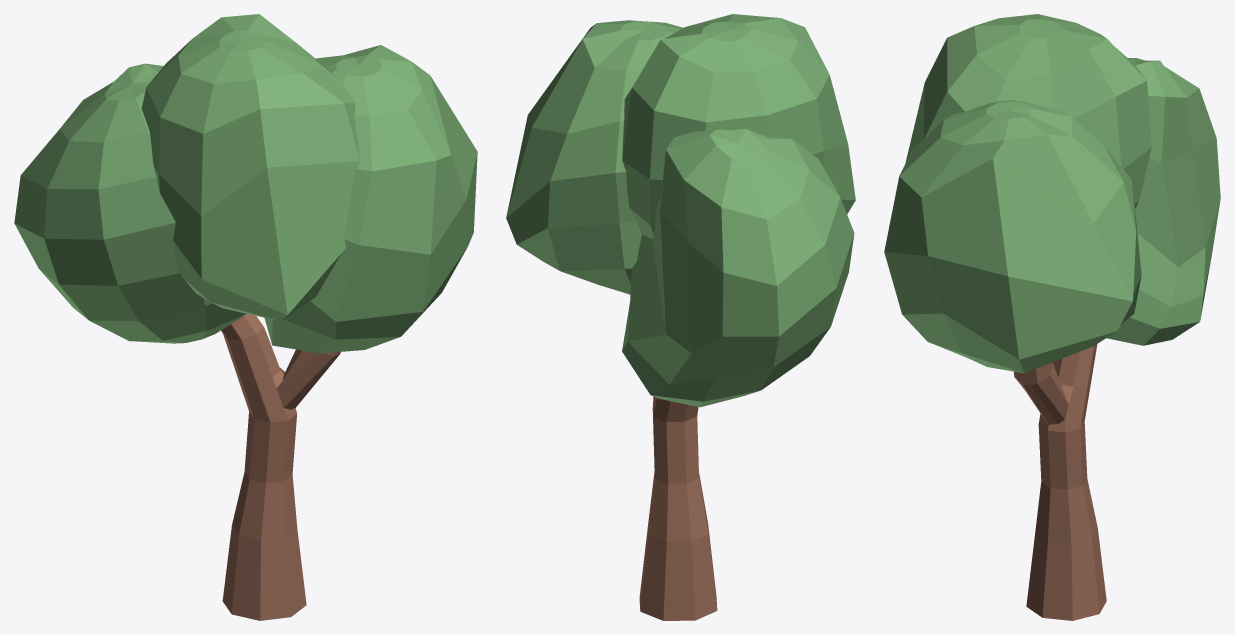
Rendered from round_tree_new.fbx.
3 renders of one model, left to right at view 1: azimuth 30°, elevation 25°; view 2: azimuth 150°, elevation 25°; view 3: azimuth 270°, elevation 25°, orthographic. The views are drawn at different scales.
Parts seen in each view (by area): view 1: Sphere.005, Sphere.003, Sphere.004, Cylinder.002; view 2: Sphere.004, Sphere.005, Sphere.003, Cylinder.002; view 3: Sphere.003, Sphere.005, Sphere.004, Cylinder.002.
Boxes of the visible parts, bbox=[...] form: Sphere.005: bbox=[141, 14, 360, 321]; Sphere.003: bbox=[264, 45, 477, 353]; Sphere.004: bbox=[14, 63, 246, 343]; Cylinder.002: bbox=[221, 314, 340, 620]; Sphere.004: bbox=[622, 129, 854, 407]; Sphere.005: bbox=[622, 14, 855, 238]; Sphere.003: bbox=[506, 20, 683, 294]; Cylinder.002: bbox=[639, 396, 717, 620]; Sphere.003: bbox=[884, 100, 1141, 373]; Sphere.005: bbox=[905, 14, 1151, 208]; Sphere.004: bbox=[1107, 58, 1220, 345]; Cylinder.002: bbox=[1014, 344, 1106, 620].
Bounding box in the file's own units: 214 × 317 × 173.
